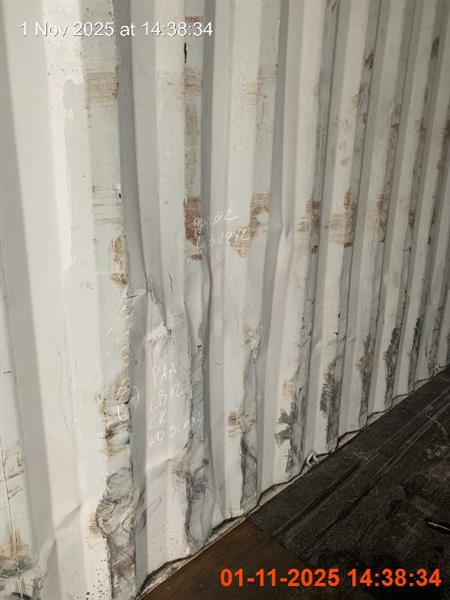crack: (138, 364, 449, 599)
